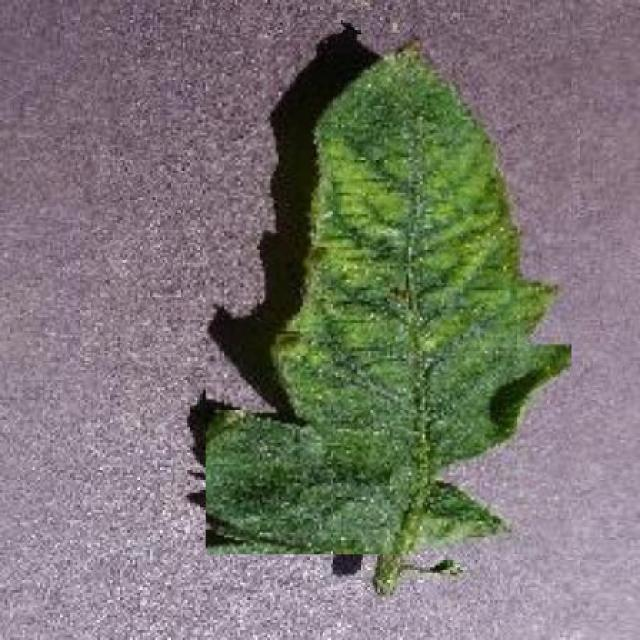Mosaic Virus: (207, 35, 572, 555)
